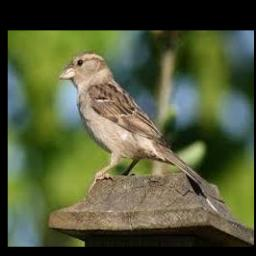Sparrow: (60, 52, 201, 188)
